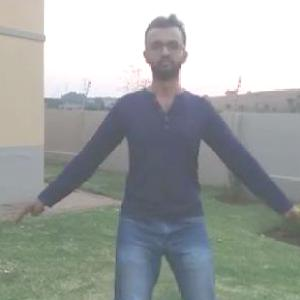land: (29, 20, 297, 294)
